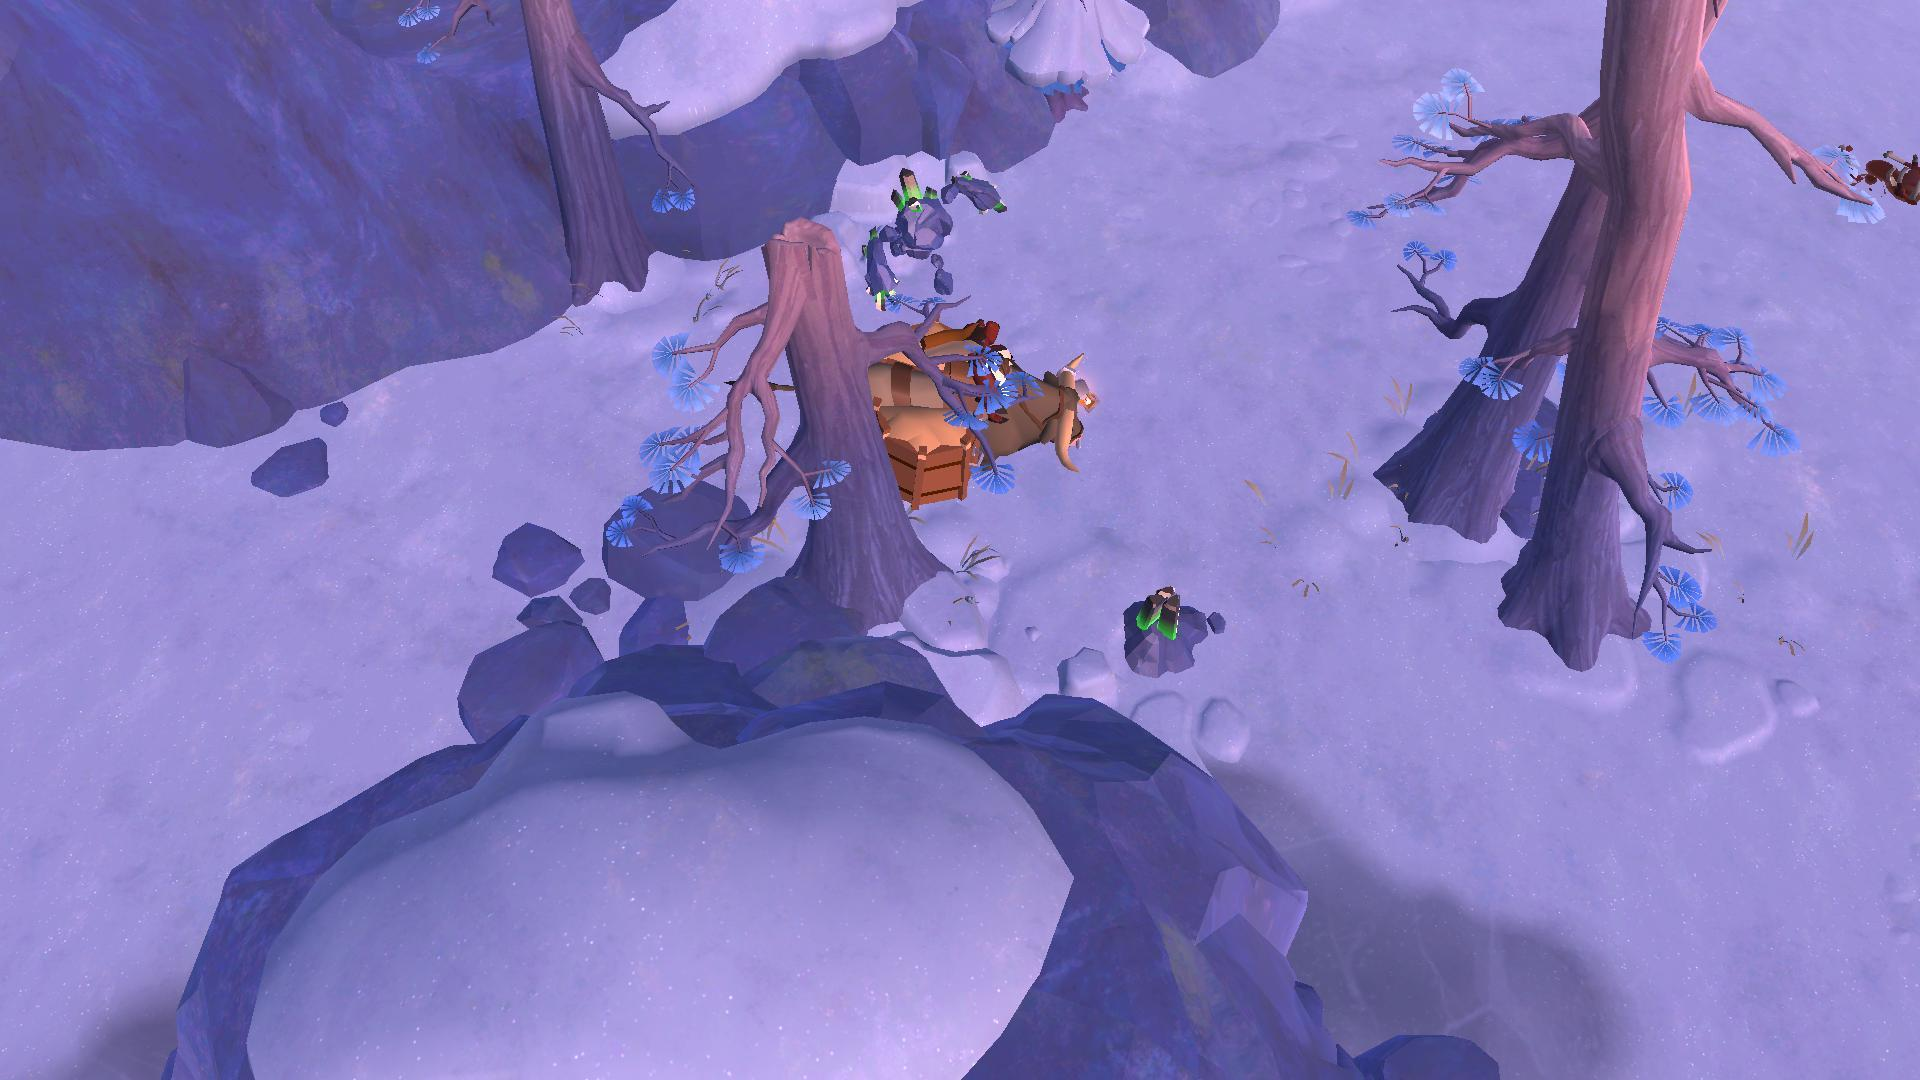ore_t3: (1135, 579, 1185, 644)
